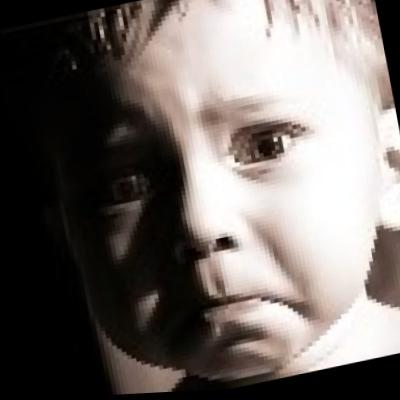sad: (51, 0, 376, 374)
